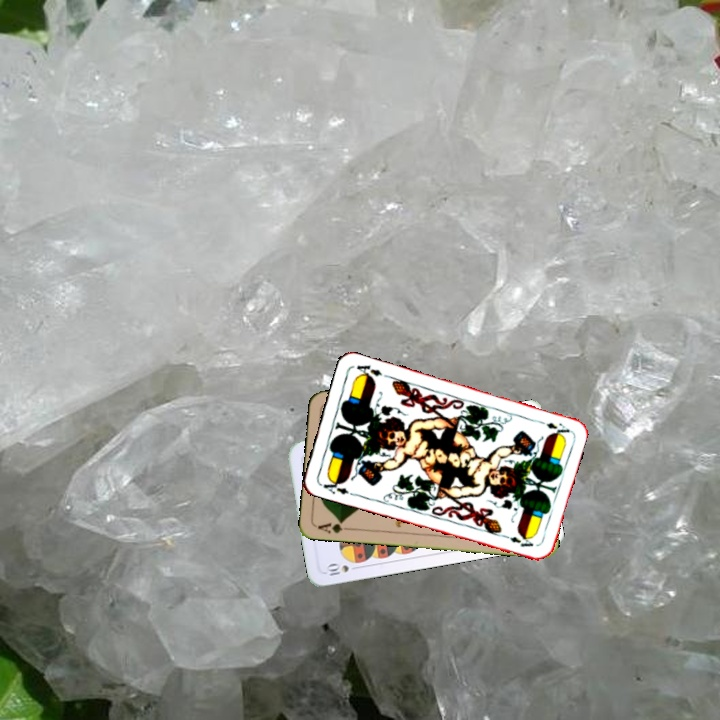EA: (317, 474, 357, 499), (533, 416, 572, 438)
GA: (314, 517, 354, 536)
S10: (322, 560, 362, 578)
